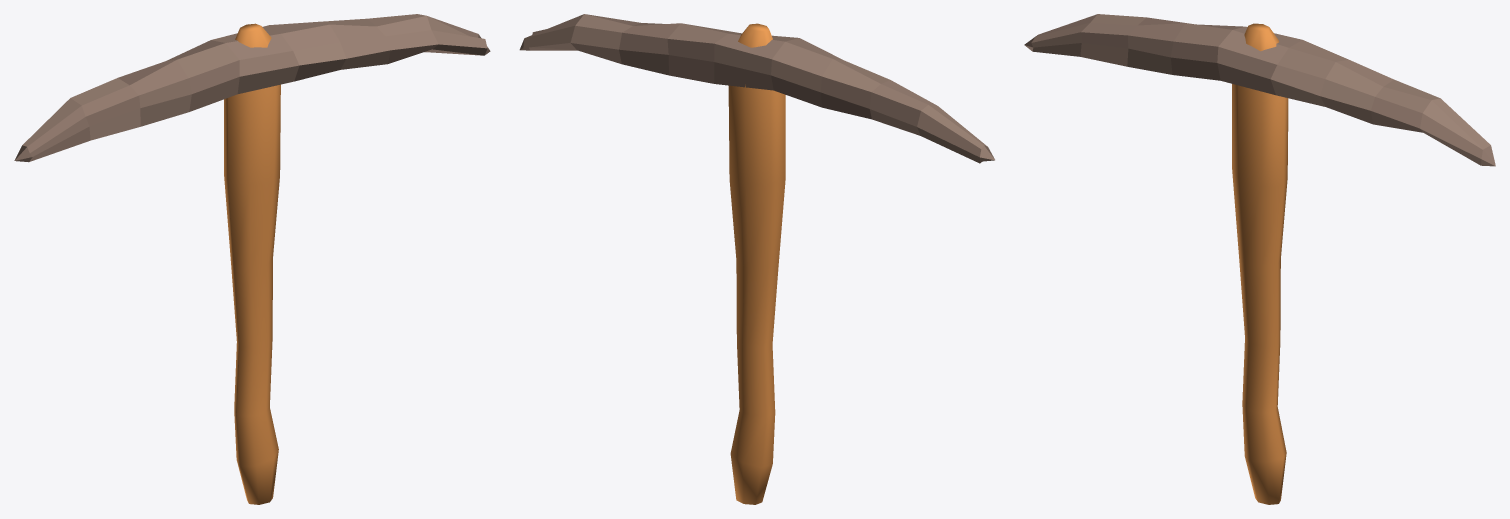
The model's file is StonePickAxe.fbx.
3 views of the same model, side by side, from view 1: azimuth 30°, elevation 25°; view 2: azimuth 150°, elevation 25°; view 3: azimuth 330°, elevation 25° (orthographic).
Visible parts, largest first — view 1: Cube, Cylinder; view 2: Cube, Cylinder; view 3: Cube, Cylinder.
Boxes of the visible parts, x1,y1,x2,y2 form: Cube: (14,14,490,162); Cylinder: (224,23,280,504); Cube: (519,14,994,163); Cylinder: (728,23,785,504); Cube: (1024,14,1495,166); Cylinder: (1232,23,1288,504).
Bounding box in the file's own units: 1967 × 1876 × 233.
